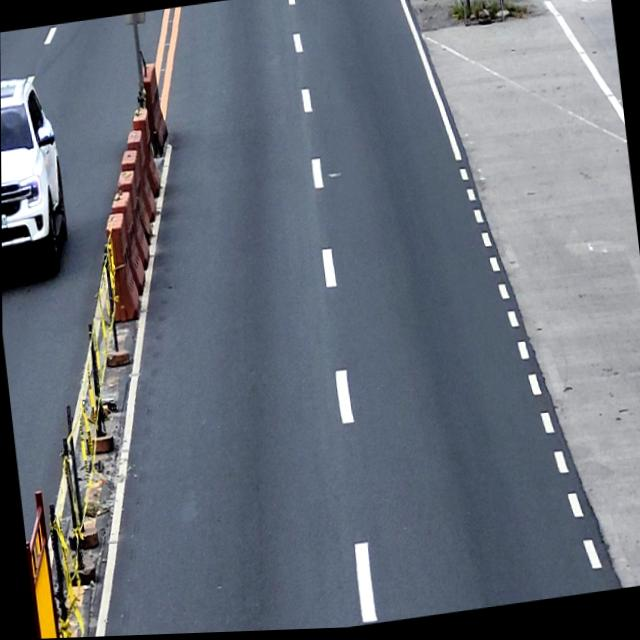Car: (0, 70, 72, 281)
License-Plate: (1, 210, 7, 230)
